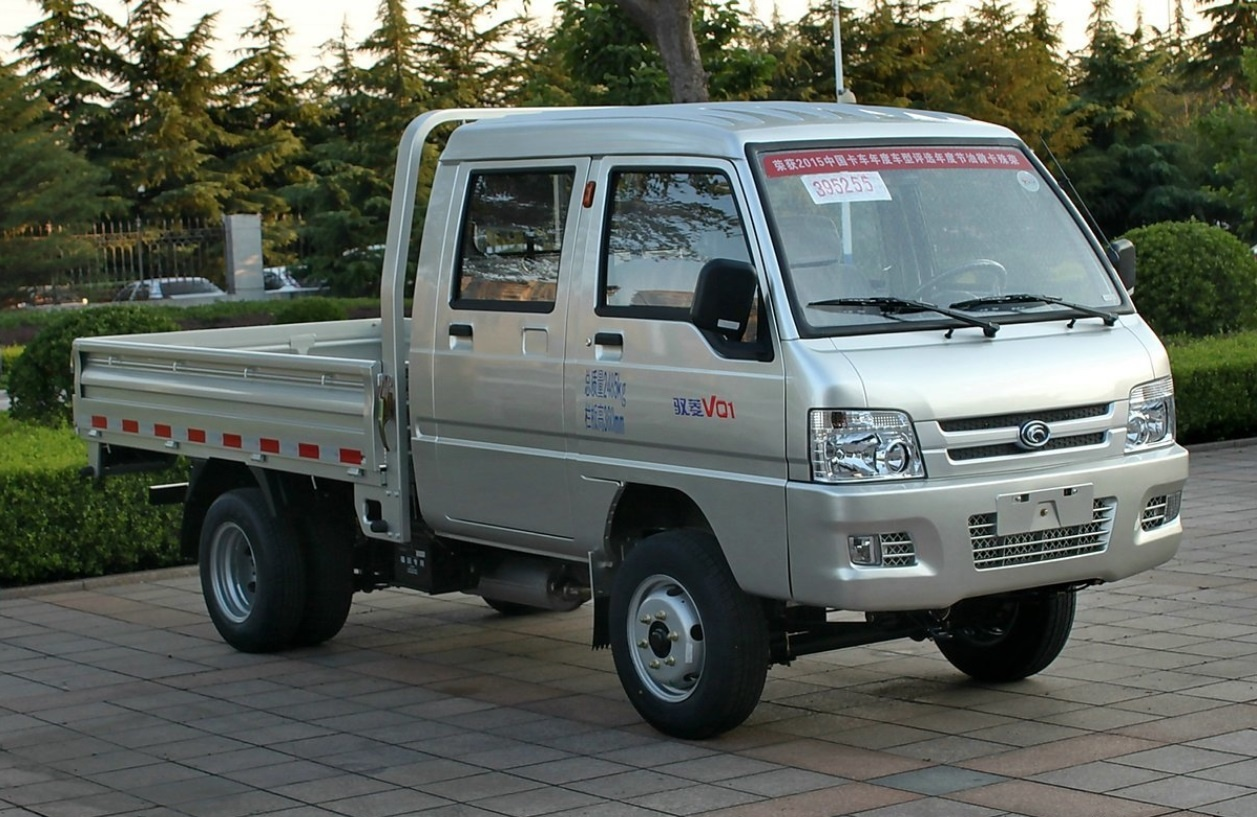truck: (65, 111, 1188, 725)
